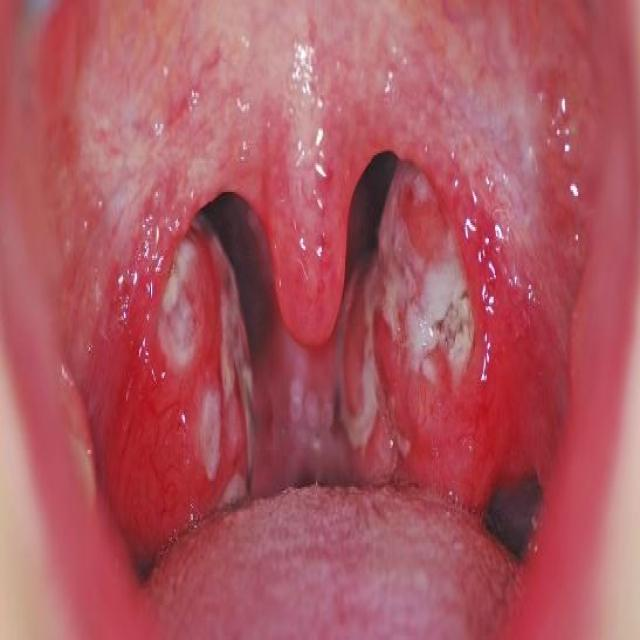pharyngitis: (344, 164, 549, 521), (111, 213, 262, 534)
